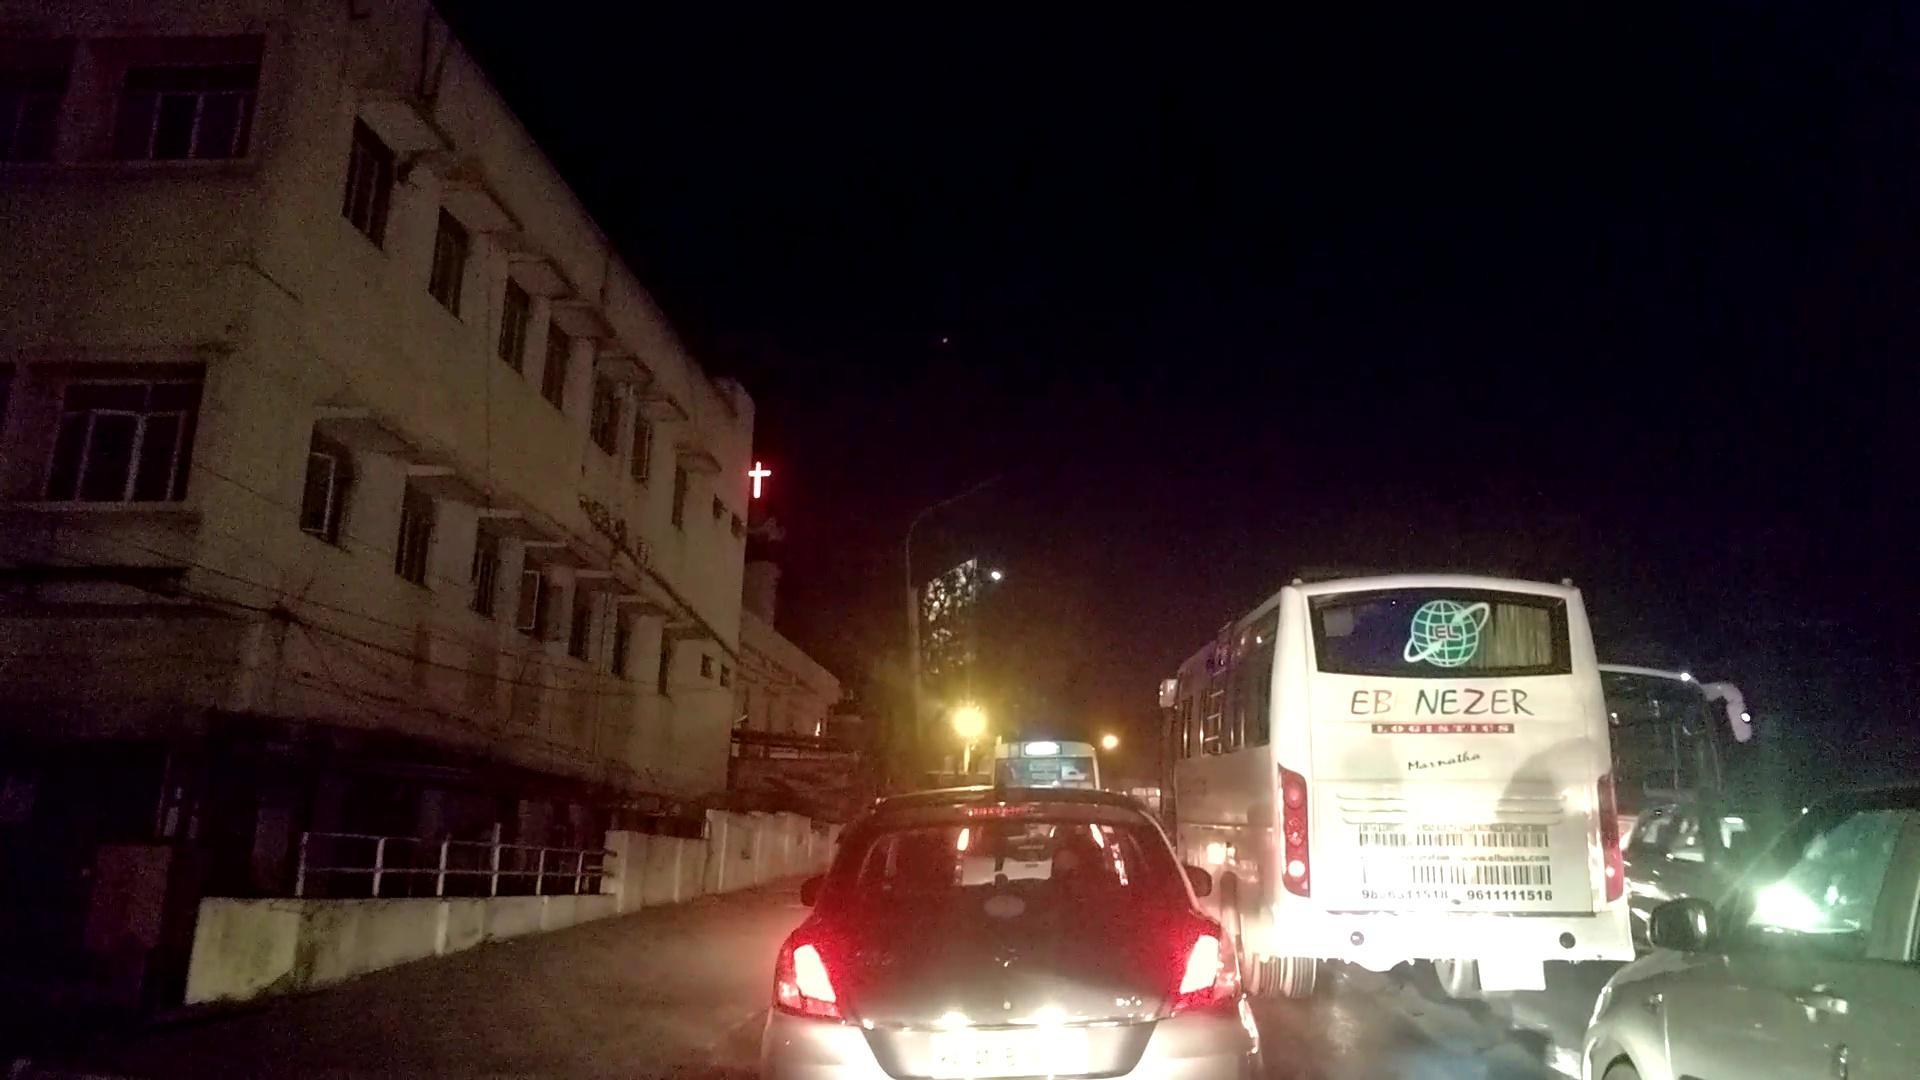on: (781, 603, 1230, 858)
